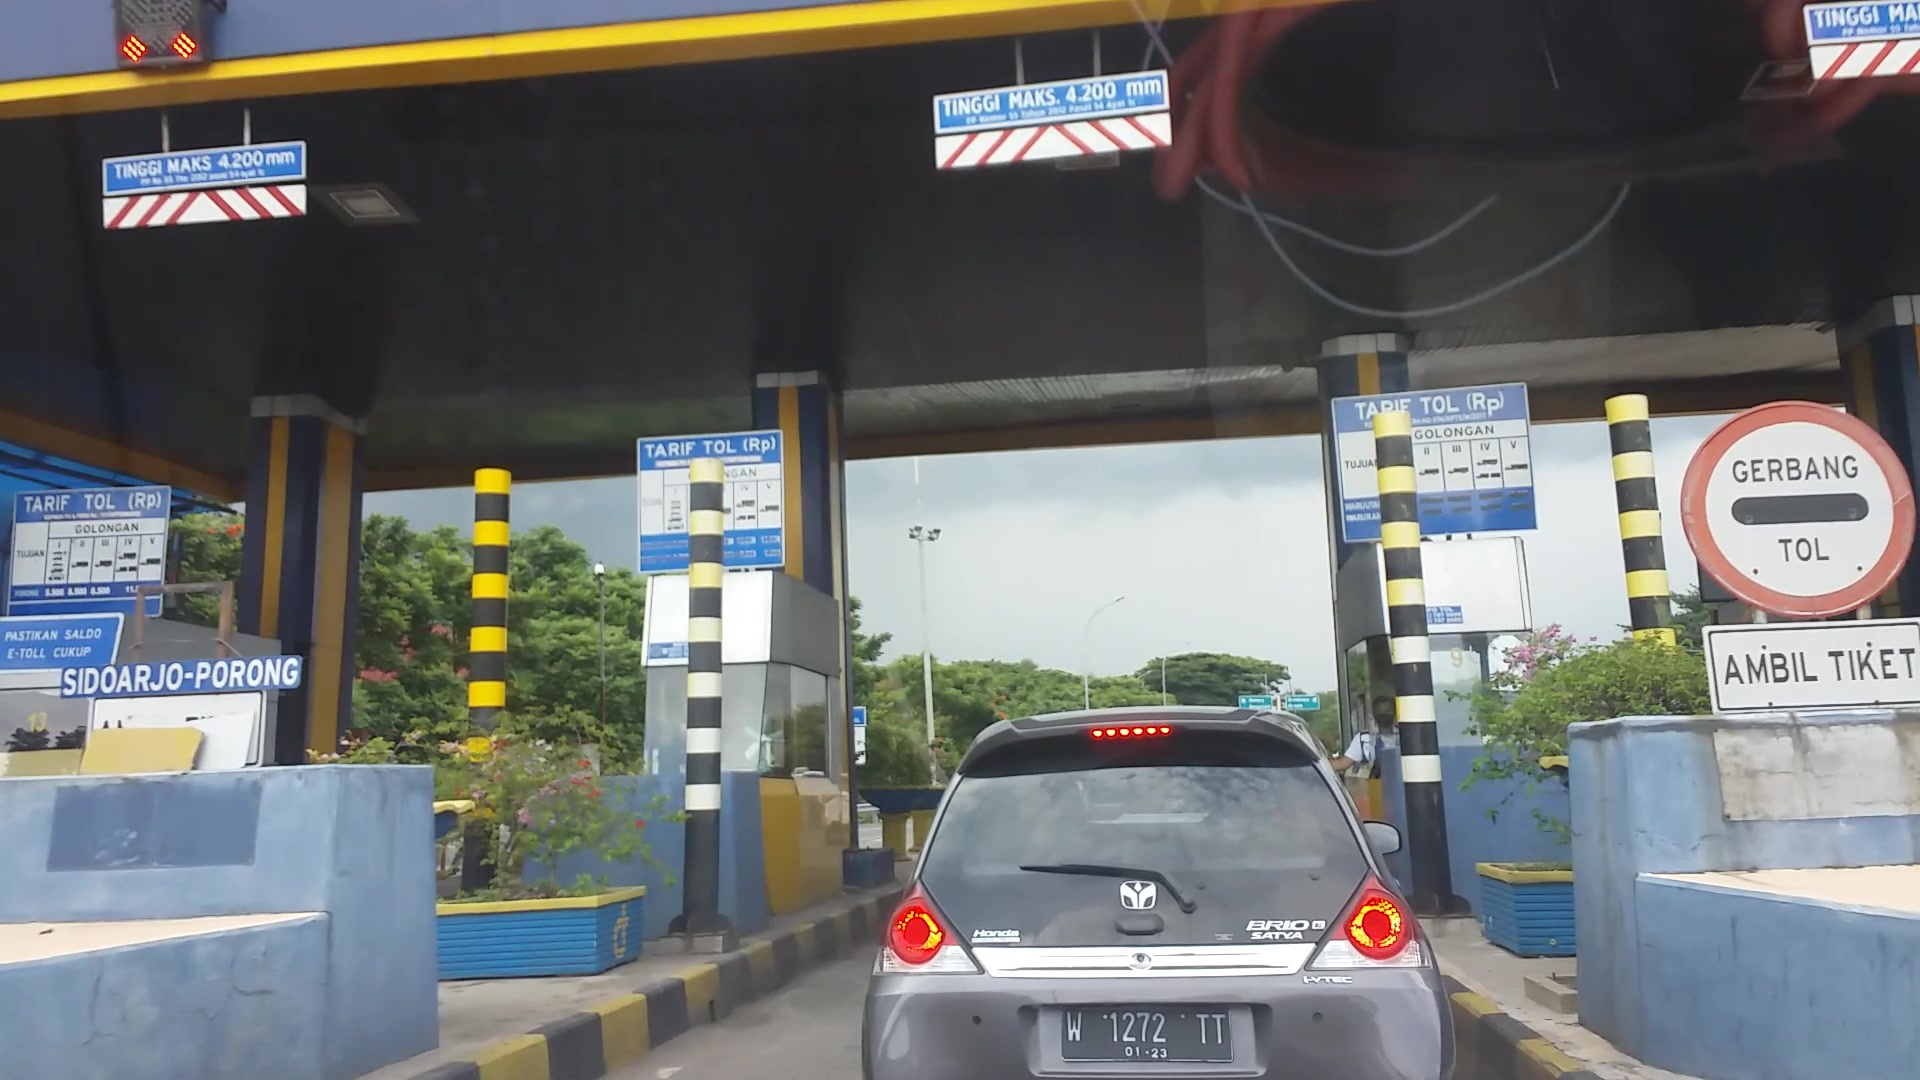plate_positive: (1062, 1006, 1232, 1063)
